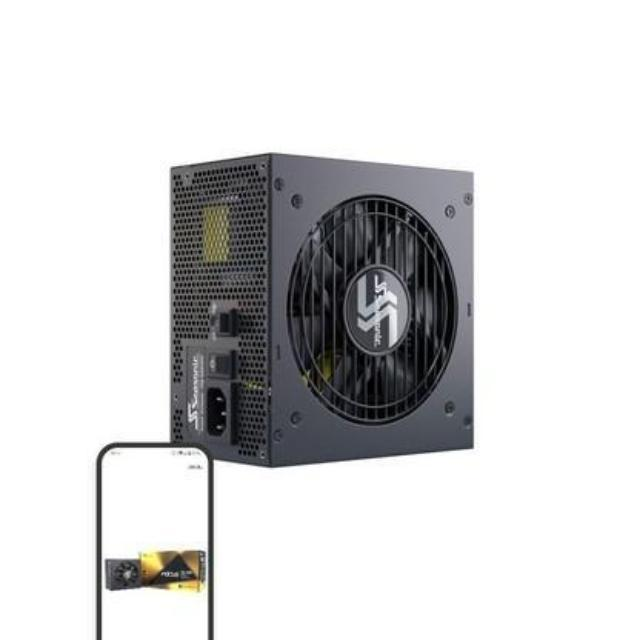PSU: (148, 132, 492, 470)
